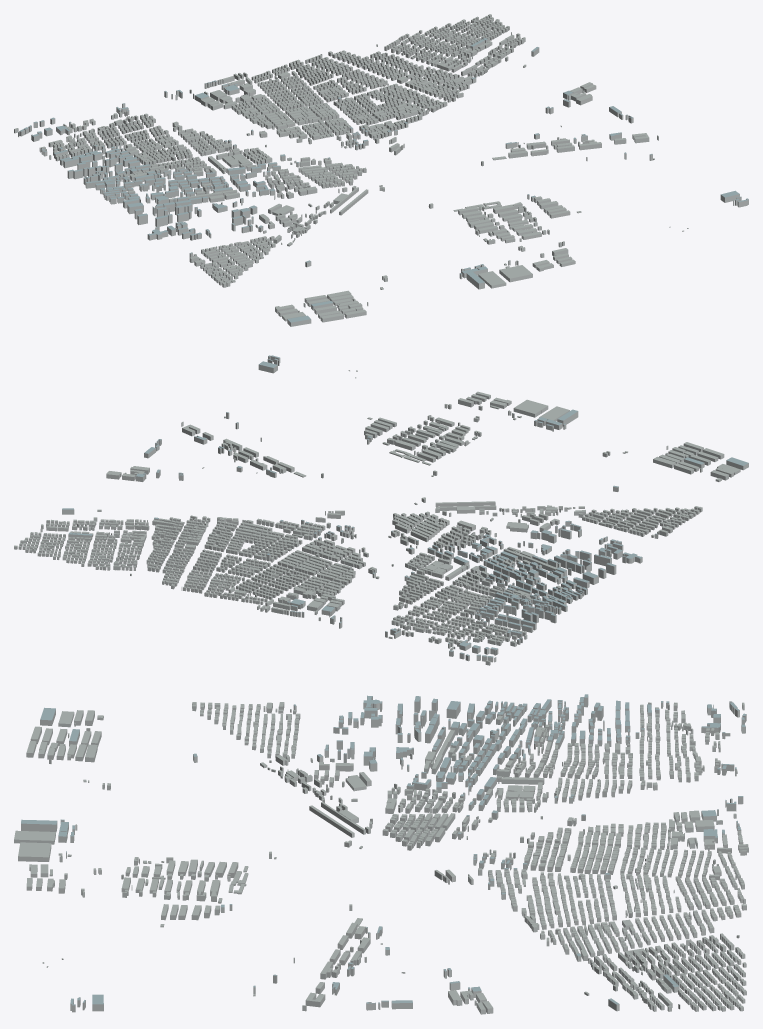
Rendered from far.glb.
3 renders of one model, top to bottom at view 1: azimuth 30°, elevation 25°; view 2: azimuth 150°, elevation 25°; view 3: azimuth 270°, elevation 25°, orthographic. The views are drawn at different scales.
Bounding box in the file's own units: 2154 × 36 × 2142.
